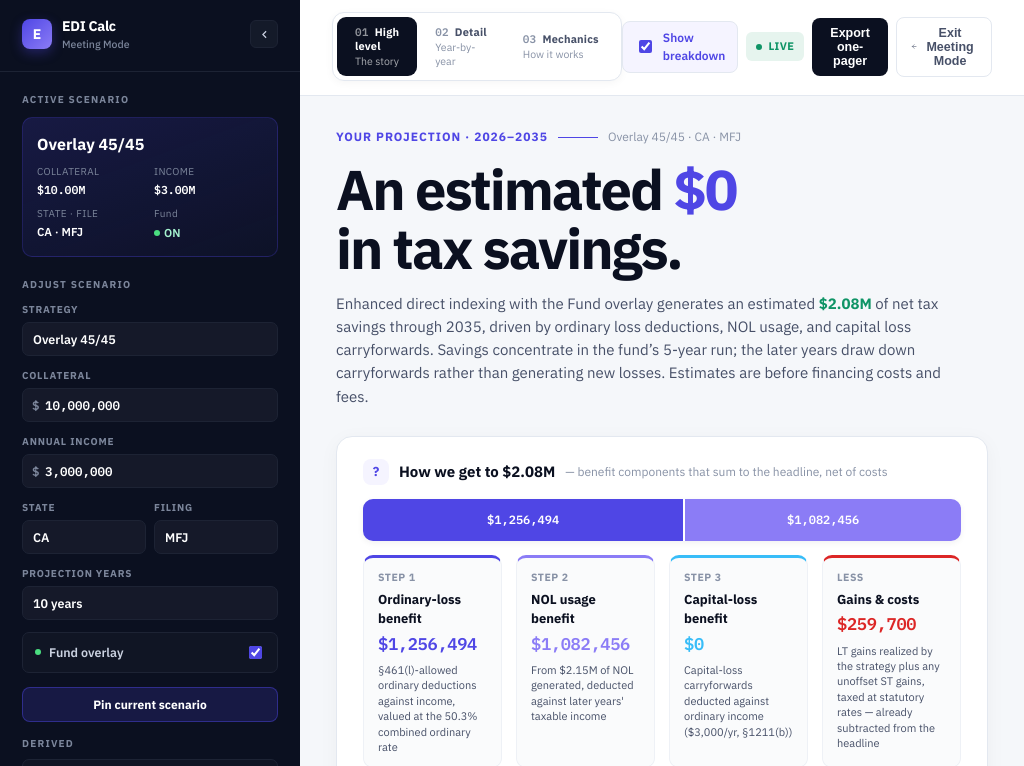
it: Meeting Mode mechanics view (mock-meeting review) › QFAF mode: CPA card states the §461(l) cap with the client numbers when it binds
What coordinates should you click on to do the following:
click the text "Mechanics"
I would click on:
 (561, 39)
Its box is left=523, top=32, right=599, bottom=46.
(page scrolled)
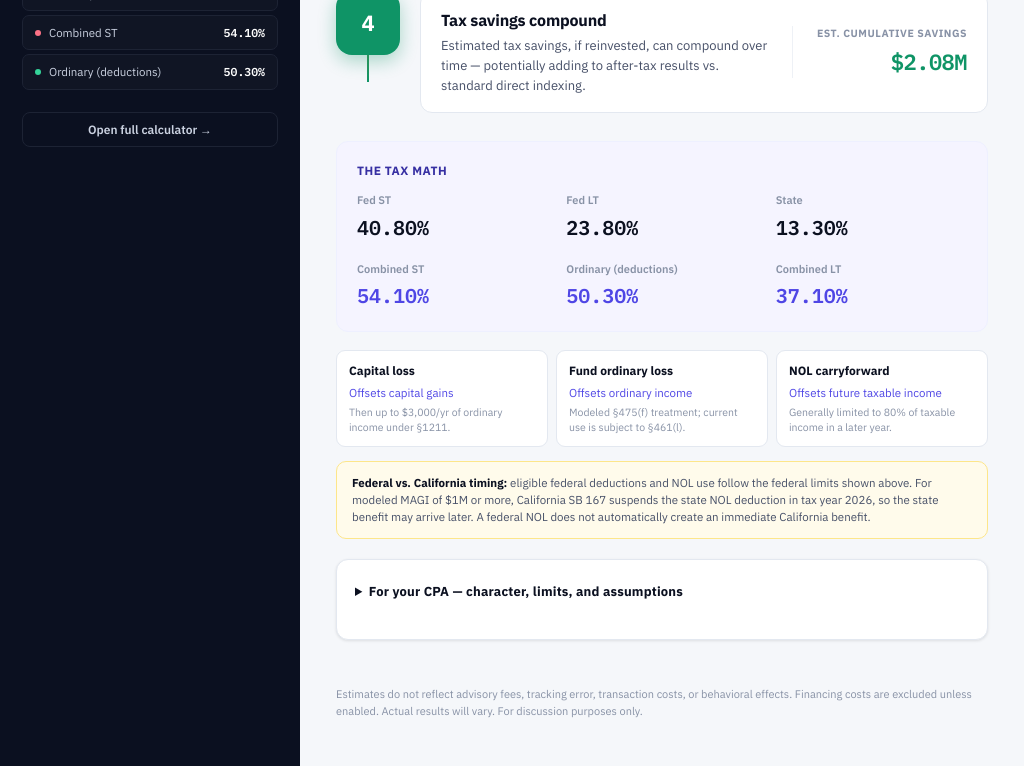
Expected: the text "For your CPA" is shown, left=369, top=583, right=683, bottom=600
Expected: the text "Federal vs. California timing" is shown, left=352, top=475, right=507, bottom=490
Expected: the element with test id "mm-loss-character-map" shows "Capital loss", left=349, top=363, right=415, bottom=378
